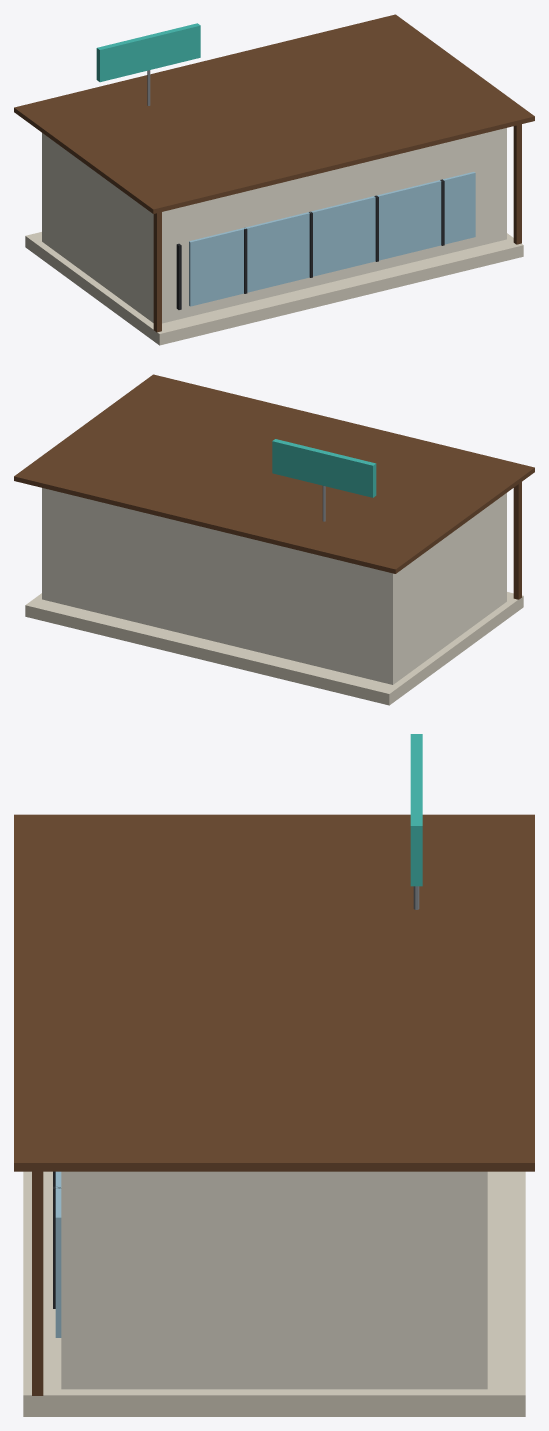
The model's file is building.furniture-store.glb.
The picture shows the model from 3 angles, top to bottom: view 1: azimuth 30°, elevation 25°; view 2: azimuth 150°, elevation 25°; view 3: azimuth 270°, elevation 25°; orthographic projection. The views are drawn at different scales.
Parts seen in each view (by area): view 1: building.furniture-store; view 2: building.furniture-store; view 3: building.furniture-store.
Part boxes in pixels (box(x1,y1,x2,y2)): building.furniture-store: box(14, 14, 534, 345); building.furniture-store: box(14, 374, 534, 705); building.furniture-store: box(14, 734, 534, 1416).
Bounding box in the file's own units: 17.4 × 9.1 × 11.
